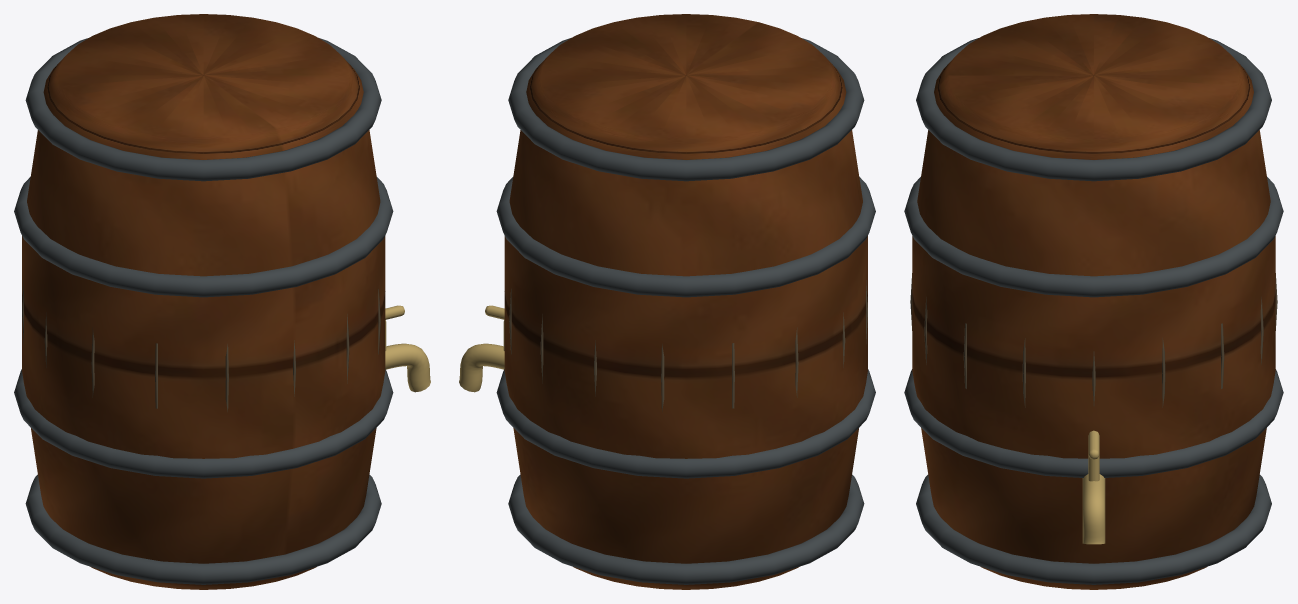
The model's file is undercity-sewers-and-thieves-den-water-butt-27904a3d__27225.glb.
3 views of the same model, side by side, from view 1: azimuth 30°, elevation 25°; view 2: azimuth 150°, elevation 25°; view 3: azimuth 270°, elevation 25° (orthographic).
Visible parts, largest first — view 1: water-butt; view 2: water-butt; view 3: water-butt.
Part boxes in pixels (x1=…): water-butt: x1=14, y1=14, x2=430, y2=589; water-butt: x1=459, y1=14, x2=875, y2=589; water-butt: x1=904, y1=14, x2=1283, y2=589.
Size of the model in its own units: 0.9908 by 1.1 by 0.8347.
4 materials, 1 textured.
